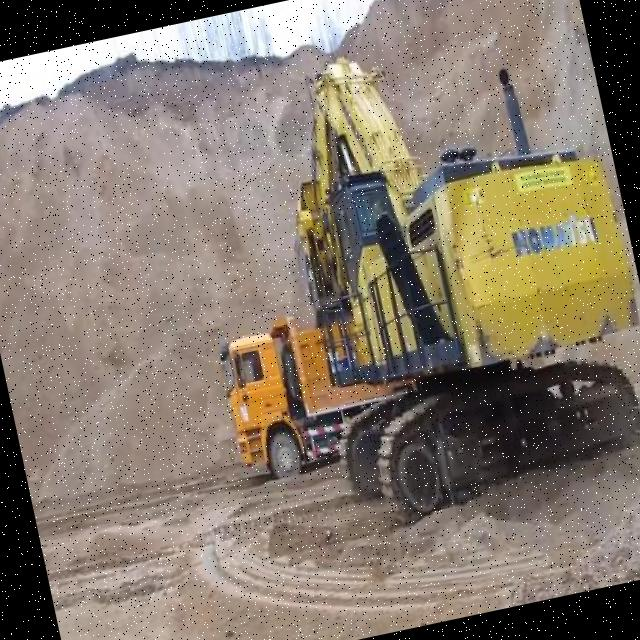Dump Truck: (208, 306, 352, 488)
Excavator: (255, 4, 640, 540)
